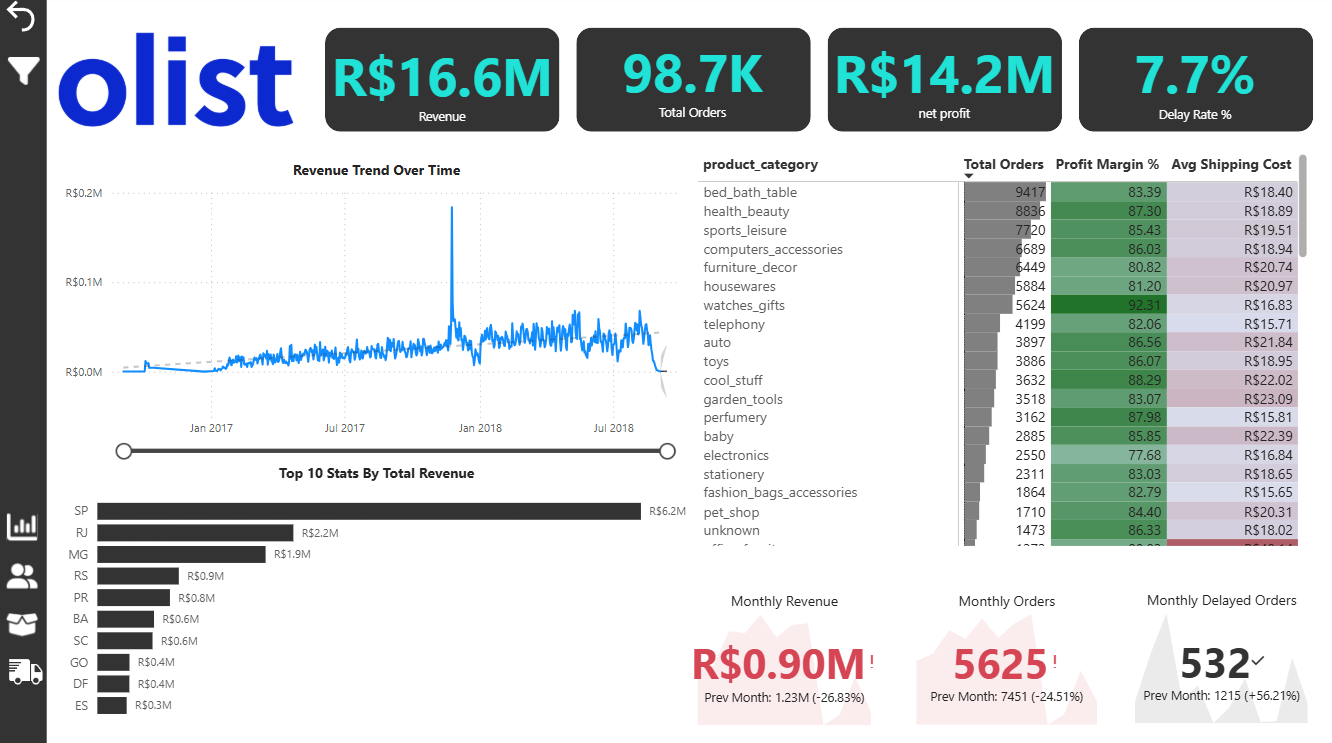

Layout of this report page (visuals, bound fields, positions):
{"tool":"powerbi","page":{"name":"Executive Overview","canvas":[1280,720],"ordinal":0},"visuals":[{"type":"shape","box":[311.2,31.2,225,100],"z":0},{"type":"shape","box":[0,0,45,720],"z":1000},{"type":"shape","box":[552.1,31.2,225,100],"z":2000},{"type":"shape","box":[792.9,31.2,225,100],"z":3000},{"type":"shape","box":[1033.8,31.2,225,100],"z":4000},{"type":"card","fields":{"Values":["gold fact_orders.Total_Orders"]},"box":[551.6,29.2,225.6,101.7],"z":5000},{"type":"card","fields":{"Values":["gold fact_orders.Total Revenue"]},"box":[311.7,33.3,225,100],"z":6000},{"type":"card","fields":{"Values":["Measures table.net profit"]},"box":[793.3,31.1,224.4,100],"z":7000},{"type":"image","box":[56.7,31.1,224.4,100],"z":8000},{"type":"lineChart","title":"Revenue Trend Over Time","fields":{"Y":["gold fact_orders.Total Revenue"],"Category":["gold fact_orders.order_date.Variation.Date Hierarchy.Year"]},"box":[57.1,158.6,607.1,290],"z":9000},{"type":"clusteredBarChart","title":"Top 10 Stats By Total Revenue ","fields":{"Category":["gold dim_customers.state"],"Y":["Measures table.Total Revenue"]},"box":[57.1,448.5,607.3,254.9],"z":10000},{"type":"card","fields":{"Values":["Measures table.Delay Rate %"]},"box":[1033.5,30.6,225.6,100.3],"z":11000},{"type":"pivotTable","fields":{"Rows":["gold dim_products.product_category"],"Values":["Measures table.Total Orders","Measures table.Profit Margin %","Measures table.Avg Shipping Cost"]},"box":[664.4,147.6,594.7,385.8],"z":12000},{"type":"kpi","title":"Monthly Revenue","fields":{"Indicator":["Measures table.Revenue"],"Goal":["gold fact_orders.Previous Month Revenue"],"TrendLine":["Date_Table.Date.Variation.Date Hierarchy.Month"]},"box":[664.4,571.4,176.3,133.7],"z":13000},{"type":"kpi","title":"Monthly Orders","fields":{"Indicator":["Measures table.Total Orders"],"TrendLine":["Date_Table.Date.Variation.Date Hierarchy.Month"],"Goal":["Measures table.Previous Month Orders"]},"box":[873.3,571.7,183.3,133.3],"z":14000},{"type":"kpi","title":"Monthly Delayed Orders","fields":{"Indicator":["Measures table.Delayed Orders"],"TrendLine":["Date_Table.Date.Variation.Date Hierarchy.Month"],"Goal":["Measures table.Previous Month Delayed Orders"]},"box":[1082.9,570,175.7,132.9],"z":15000},{"type":"actionButton","box":[0,0,45,40],"z":16000},{"type":"actionButton","box":[3.4,53.1,38.4,39.6],"z":17000},{"type":"actionButton","box":[2.5,491.2,45,37.5],"z":19000},{"type":"actionButton","box":[2,585,45.6,37.8],"z":20000},{"type":"actionButton","box":[2,538,45.6,37.8],"z":21000},{"type":"image","box":[2,632,45,32.5],"z":22000}]}

Visuals, with their boxes on the page's 1280x720 design canvas (x1, y1, x2, y2). These are canvas units, not pixel positions in the 1332x743 screenshot, which may show the page scaled, cropped or inside an application window:
shape: (x1=311, y1=31, x2=536, y2=131)
shape: (x1=0, y1=0, x2=45, y2=720)
shape: (x1=552, y1=31, x2=777, y2=131)
shape: (x1=793, y1=31, x2=1018, y2=131)
shape: (x1=1034, y1=31, x2=1259, y2=131)
card - gold fact_orders.Total_Orders: (x1=552, y1=29, x2=777, y2=131)
card - gold fact_orders.Total Revenue: (x1=312, y1=33, x2=537, y2=133)
card - Measures table.net profit: (x1=793, y1=31, x2=1018, y2=131)
image: (x1=57, y1=31, x2=281, y2=131)
"Revenue Trend Over Time" lineChart: (x1=57, y1=159, x2=664, y2=449)
"Top 10 Stats By Total Revenue " clusteredBarChart: (x1=57, y1=448, x2=664, y2=703)
card - Measures table.Delay Rate %: (x1=1034, y1=31, x2=1259, y2=131)
pivotTable - gold dim_products.product_category x Measures table.Total Orders: (x1=664, y1=148, x2=1259, y2=533)
"Monthly Revenue" kpi: (x1=664, y1=571, x2=841, y2=705)
"Monthly Orders" kpi: (x1=873, y1=572, x2=1057, y2=705)
"Monthly Delayed Orders" kpi: (x1=1083, y1=570, x2=1259, y2=703)
actionButton: (x1=0, y1=0, x2=45, y2=40)
actionButton: (x1=3, y1=53, x2=42, y2=93)
actionButton: (x1=2, y1=491, x2=48, y2=529)
actionButton: (x1=2, y1=585, x2=48, y2=623)
actionButton: (x1=2, y1=538, x2=48, y2=576)
image: (x1=2, y1=632, x2=47, y2=664)
